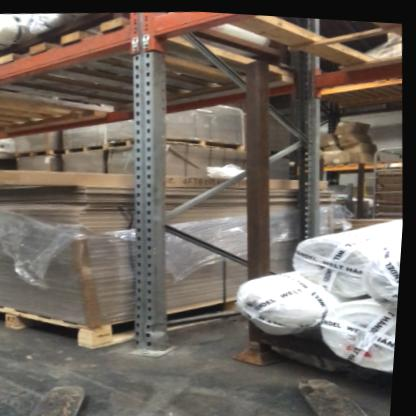vertical_damage: (126, 309, 189, 351)
